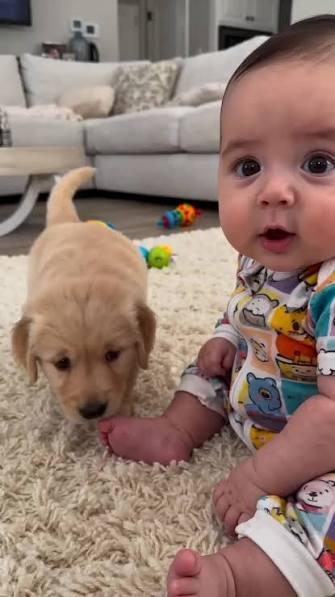non-dog: (95, 13, 335, 596)
puppy-dog: (8, 163, 158, 421)
